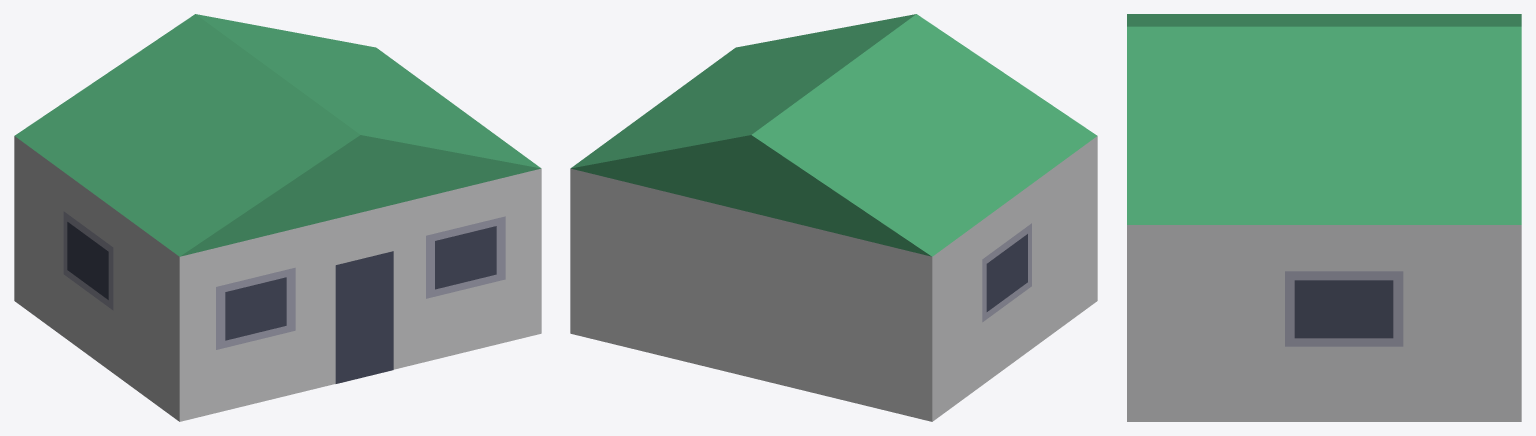
File: building-type-a-low.glb
3 renders of one model, left to right at view 1: azimuth 30°, elevation 25°; view 2: azimuth 150°, elevation 25°; view 3: azimuth 270°, elevation 25°, orthographic. The views are drawn at different scales.
Size of the model in its own units: 1.31 by 0.8335 by 1.03.
